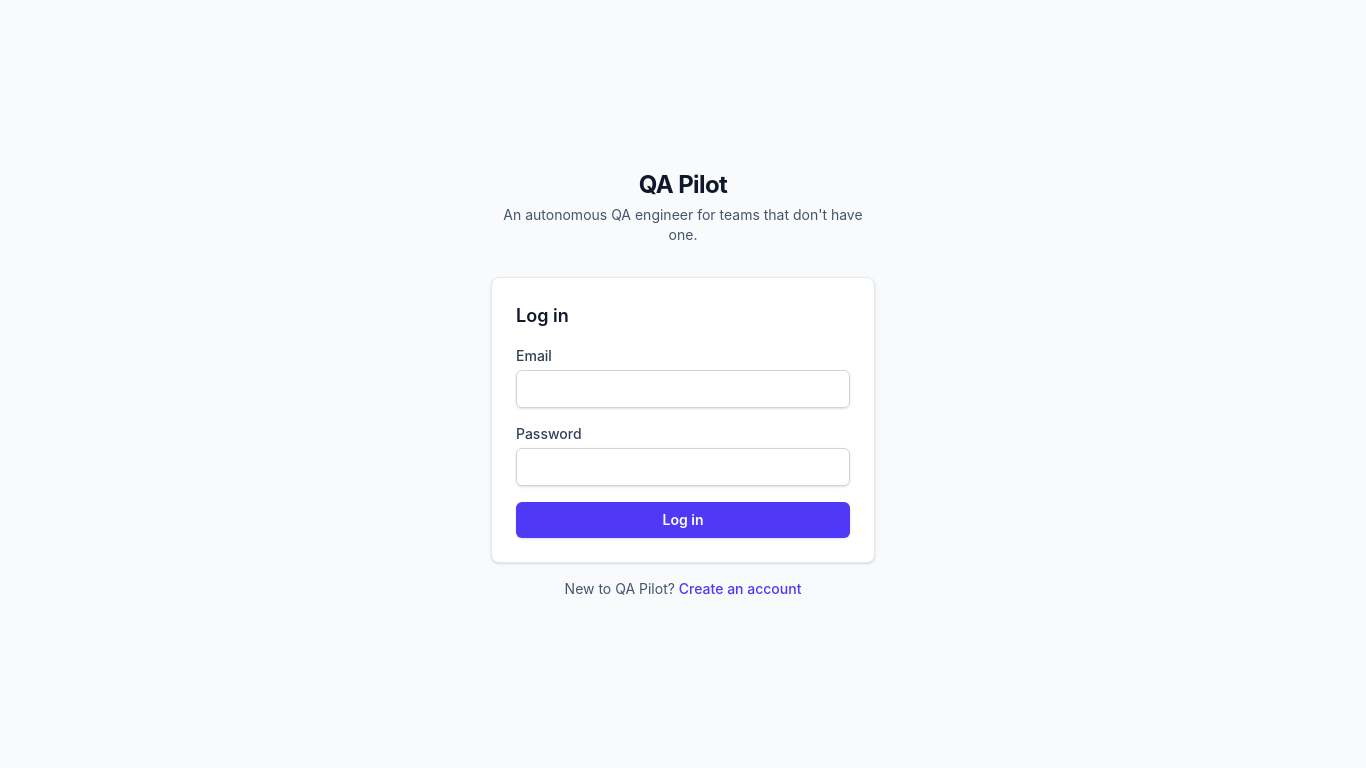
auth › logs in and shows the projects list
Type "alice@example.com" into the field labelled "Email". click: (683, 389)
box: [516,370,850,408]
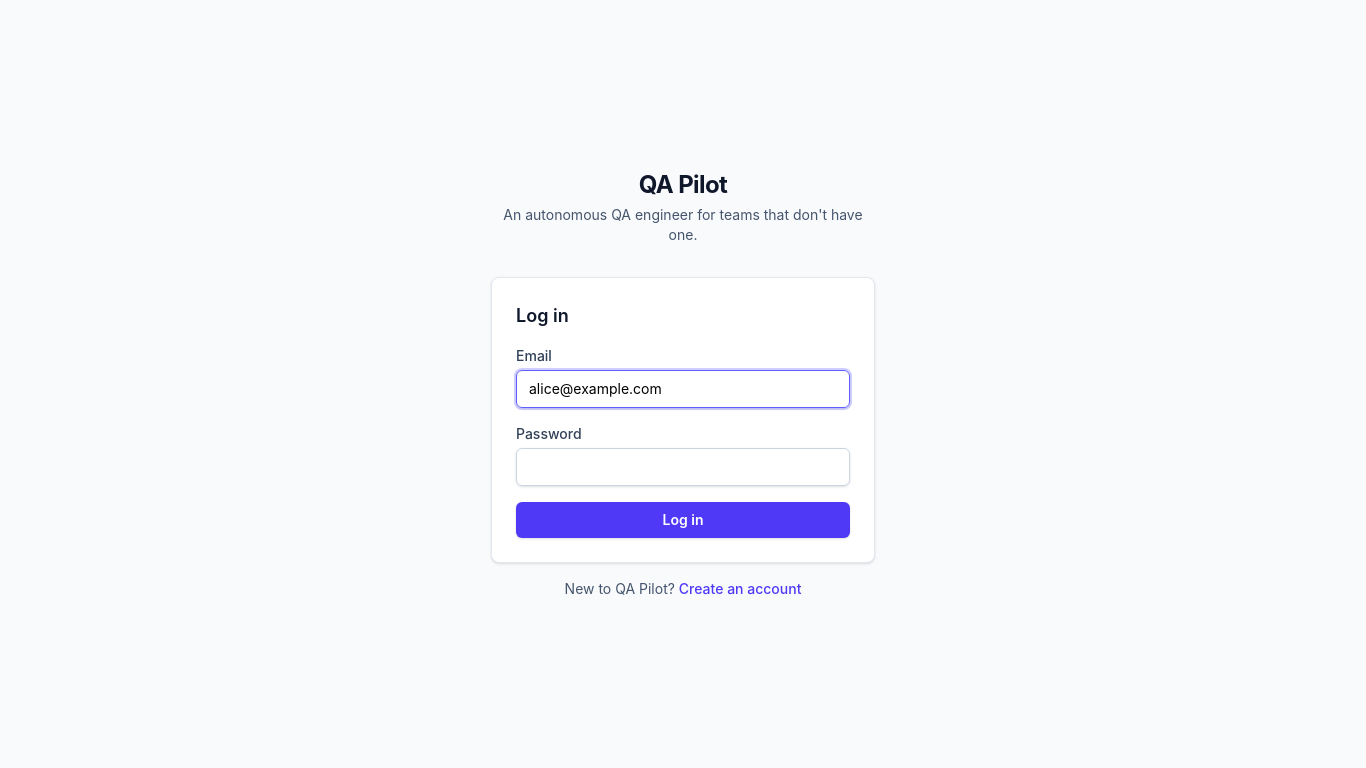
Type "correct-horse" into the password field labelled "Password". click: (683, 467)
box: [516,448,850,486]
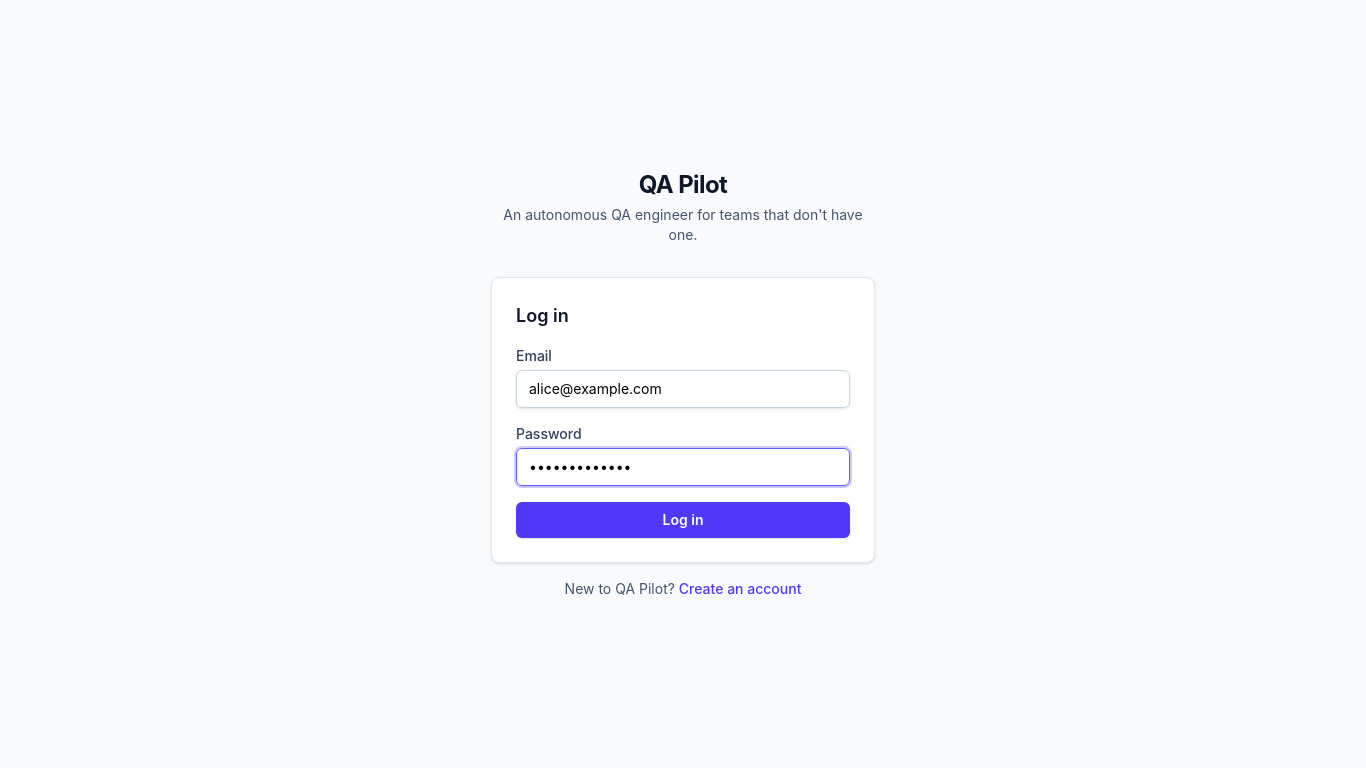
Click the button "Log in". click: (683, 520)
box: [516,502,850,538]
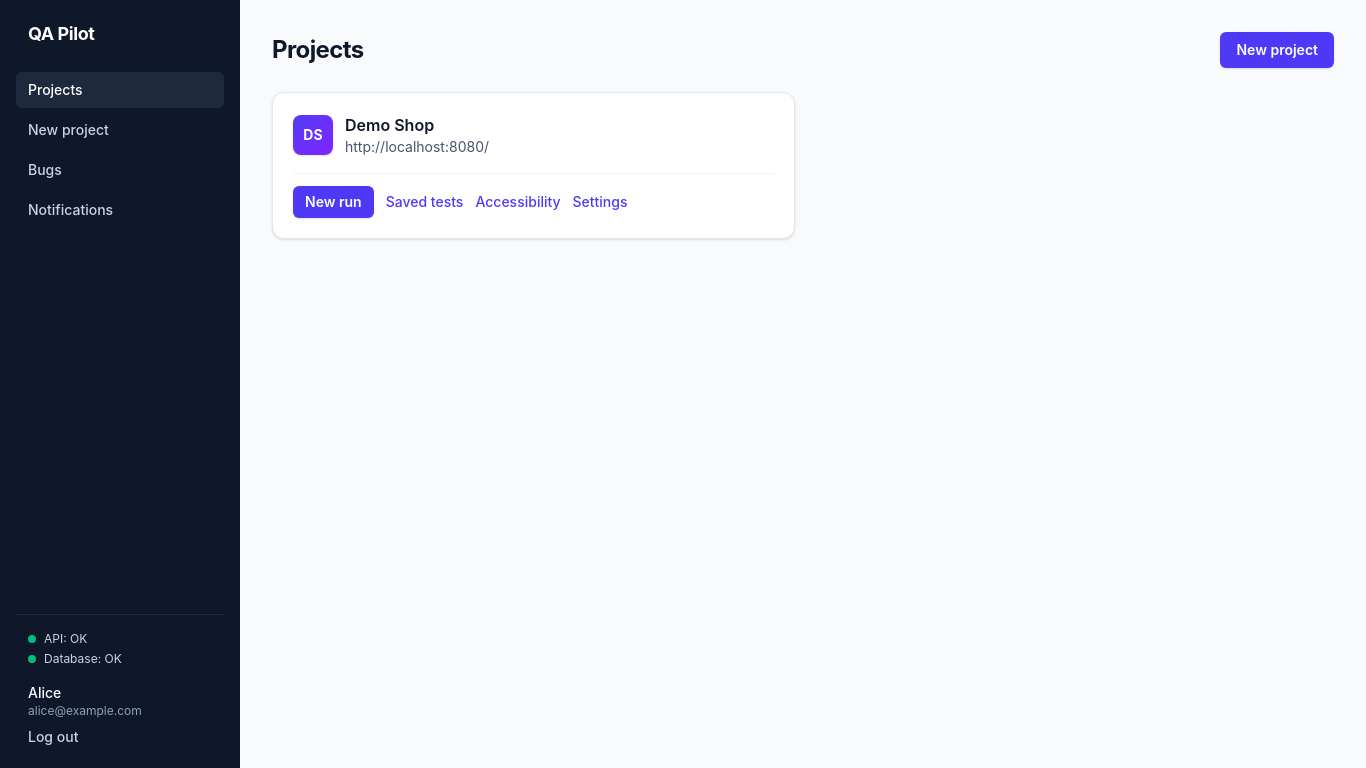
Check: the heading "Projects" is shown, box [272,34,364,66]
Check: the link "Demo Shop" is shown, box [345,115,434,135]
Check: the text "alice@example.com" is shown, box [28,703,142,718]
